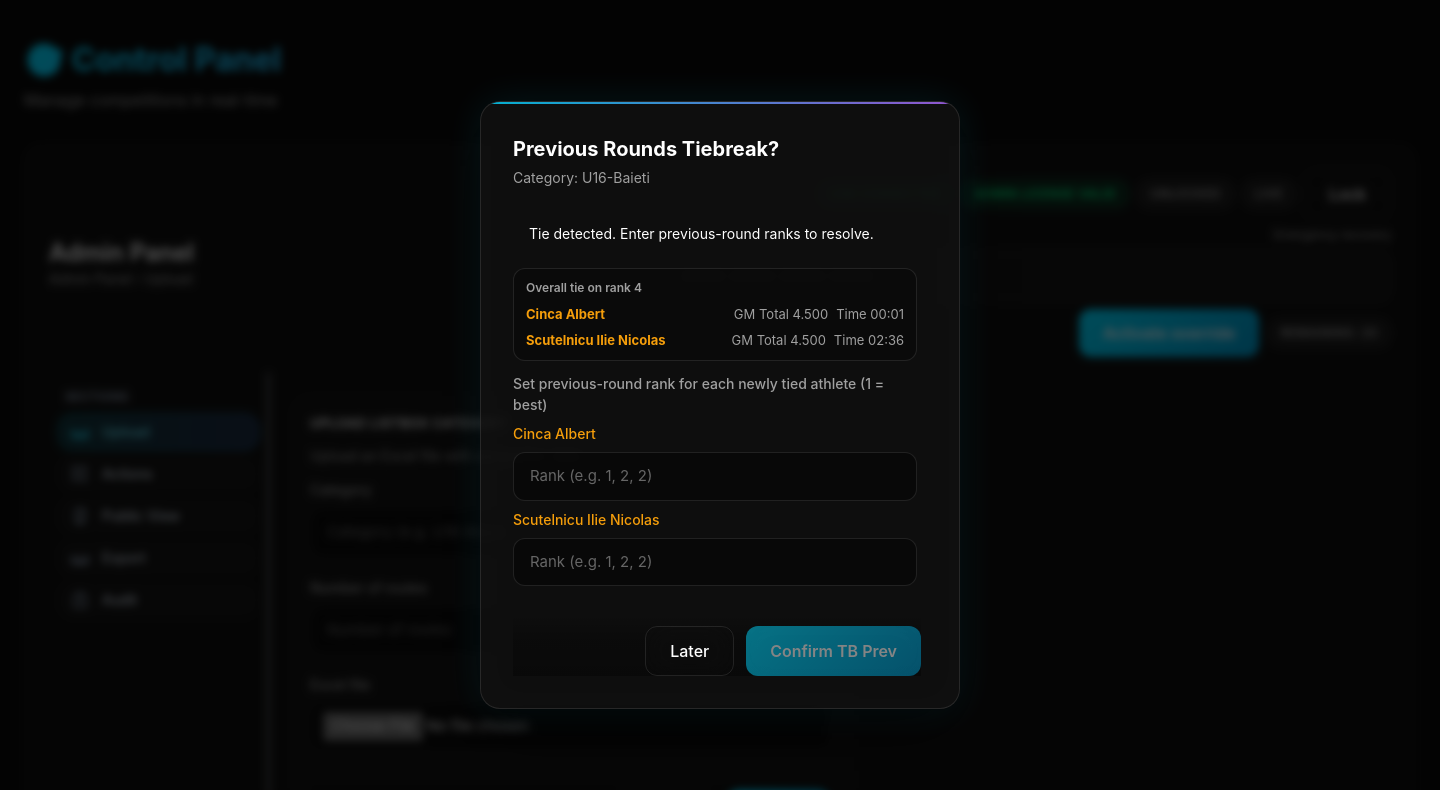
it: ControlPanel button flows › keeps Resolve now available for pending TB Prev overview items when the snapshot is unresolved but eligibleGroups are temporarily missing
Expected: the text "Set previous-round rank for each newly tied athlete" is shown, [513,375,884,413]
Click the button "Later" at coordinates (690, 651), box [645,626,734,676]
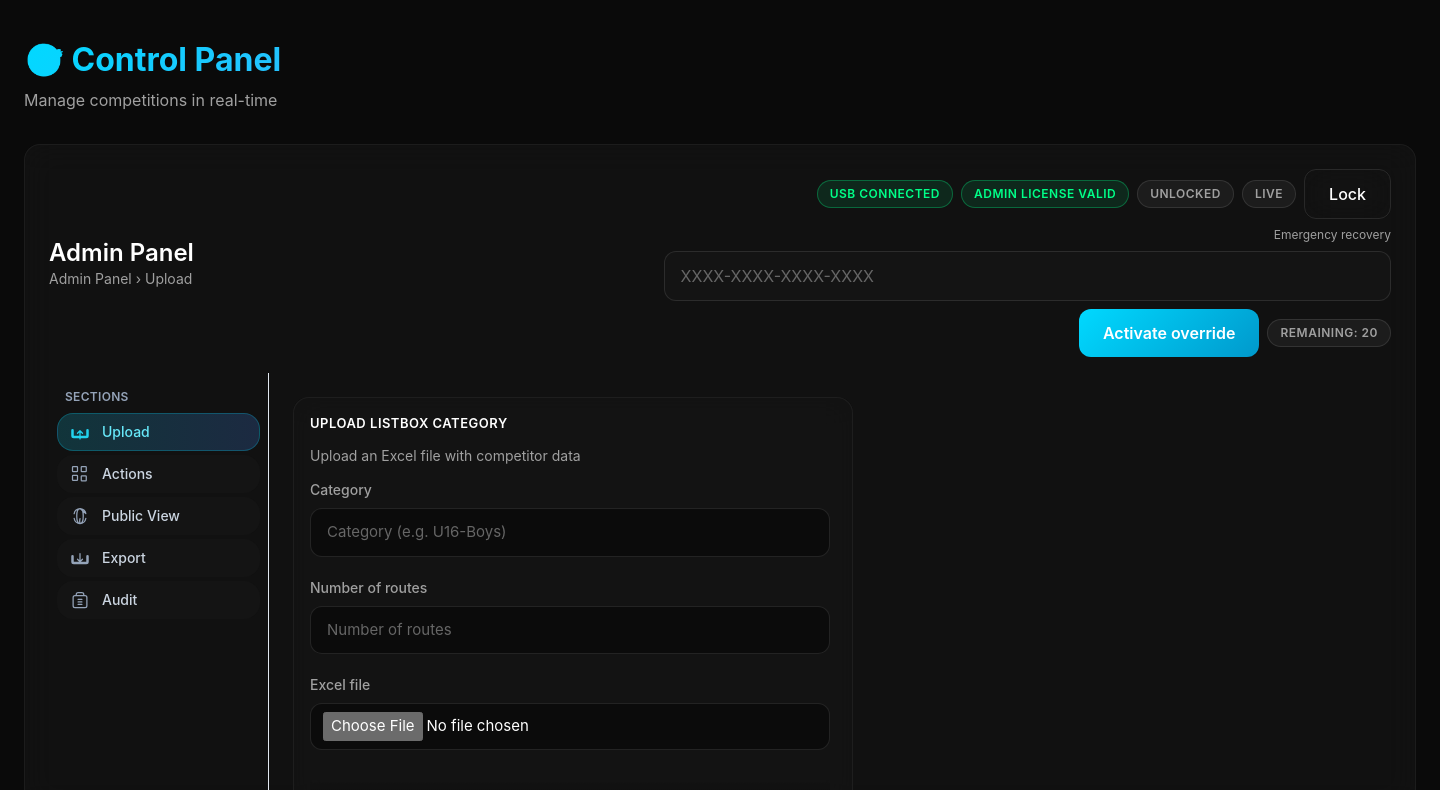
Now the text "Set previous-round rank for each newly tied athlete" is gone
Click the button "Actions" at coordinates (158, 474), box [57,455,260,493]
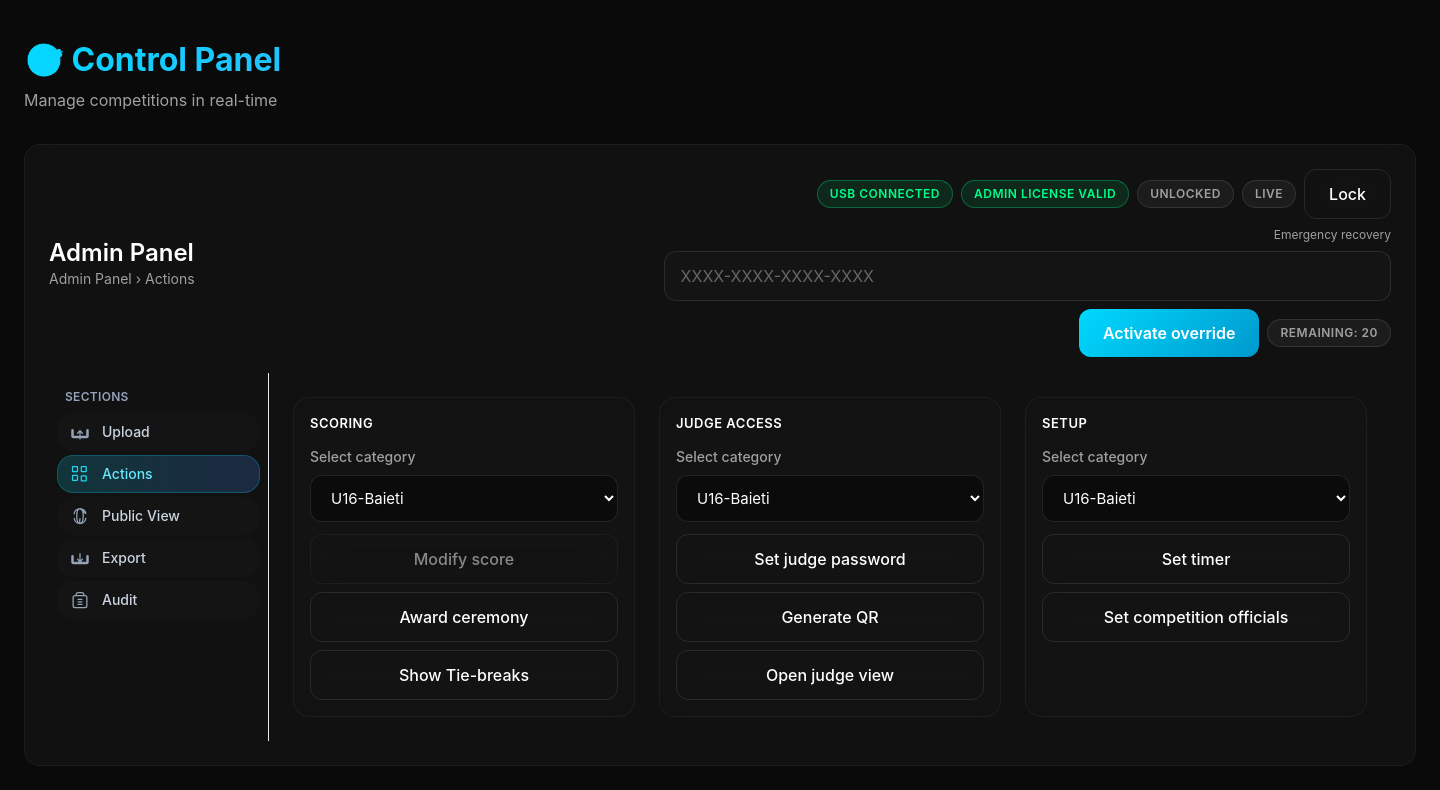
Click the button "Show Tie-breaks" at coordinates (464, 674), box [310,650,618,700]
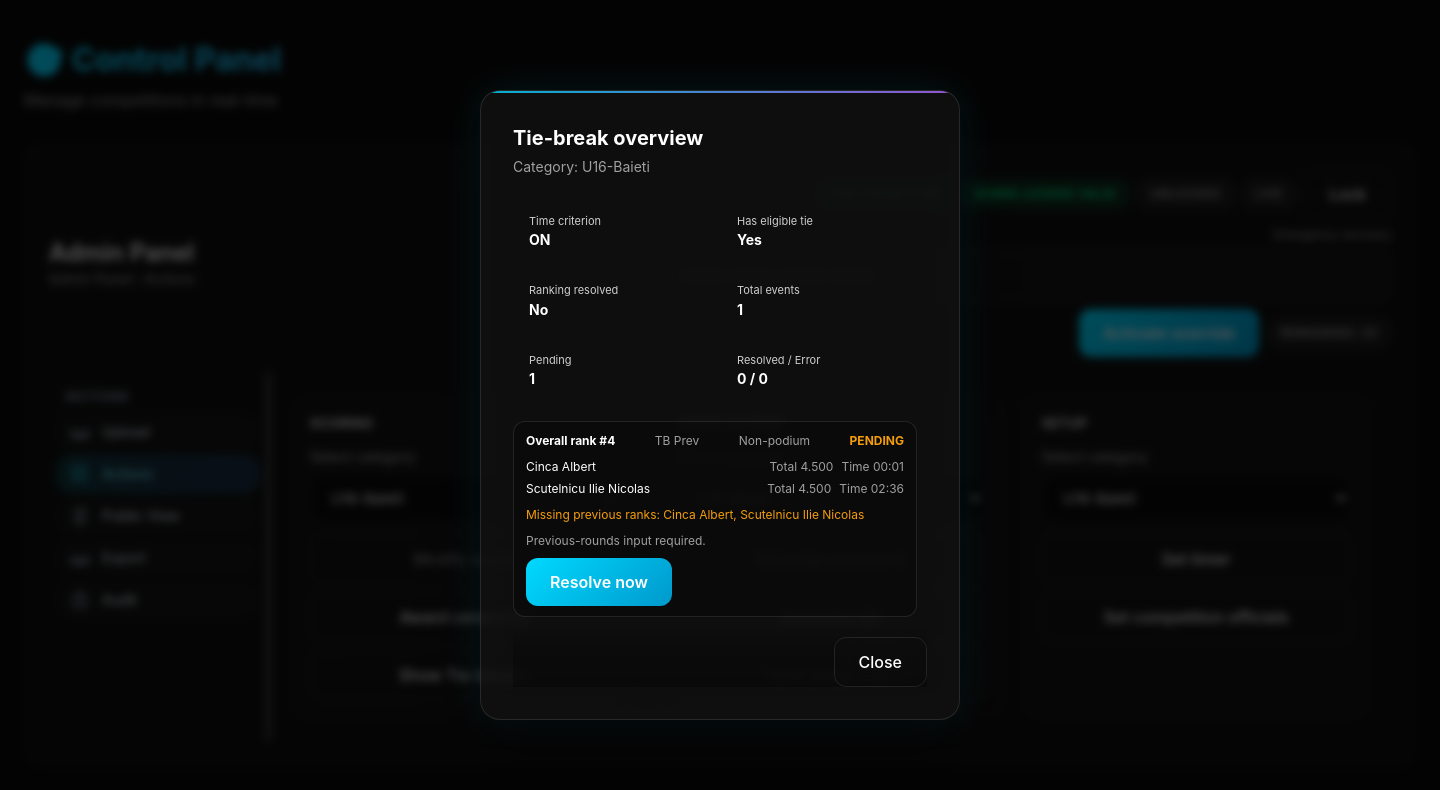
Now the text "Tie-break overview" is shown, box [513,123,703,153]
Now the text "Overall rank #4" is shown, box [526,432,615,450]
Now the button "Resolve now" is shown
Click the button "Resolve now" at coordinates (599, 582), box [526,558,672,606]
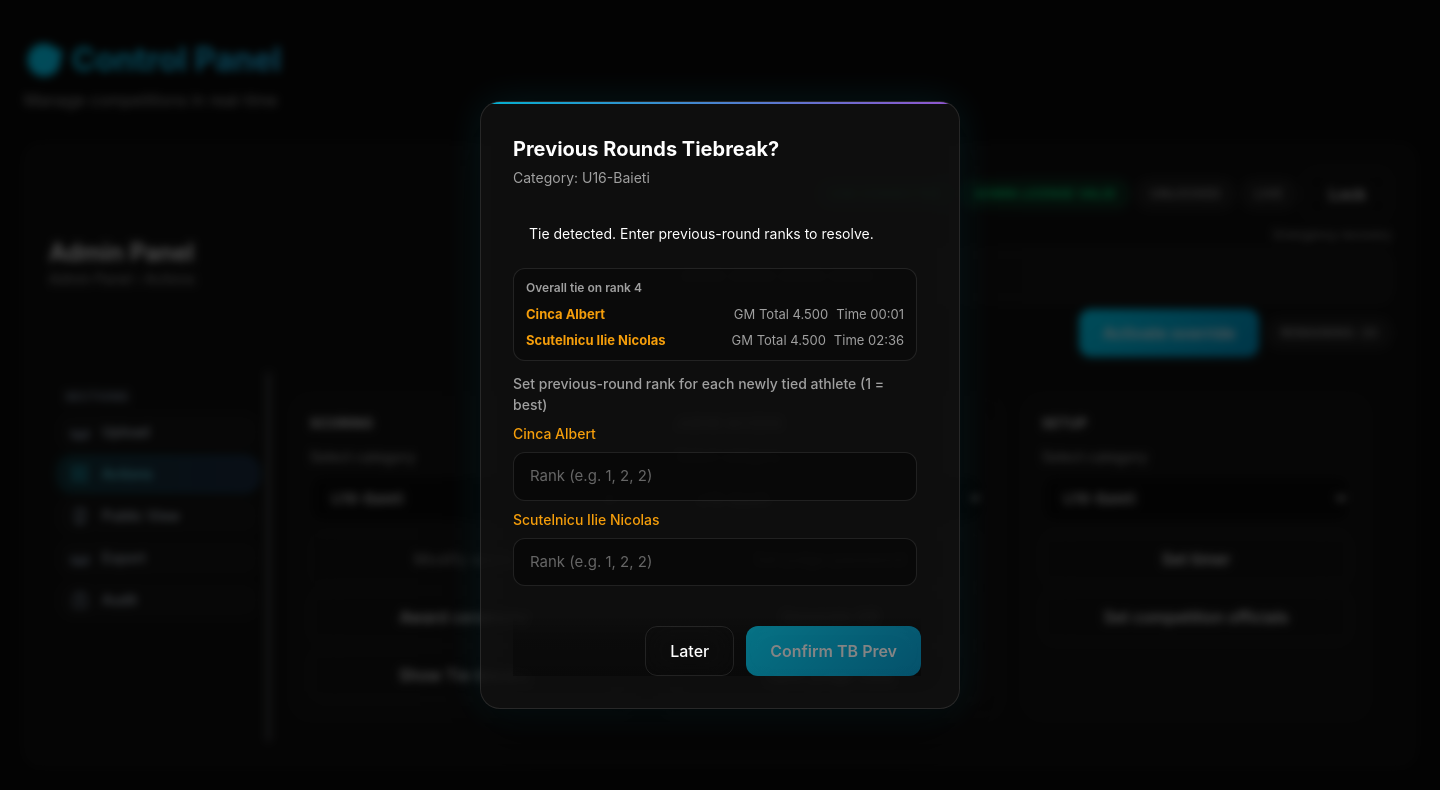
Now the text "Cinca Albert" in the row of "00:01" is shown, box [526,306,605,322]
Now the text "Tie-break overview" is gone
Now the text "Set previous-round rank for each newly tied athlete" is shown, box [513,375,884,413]
